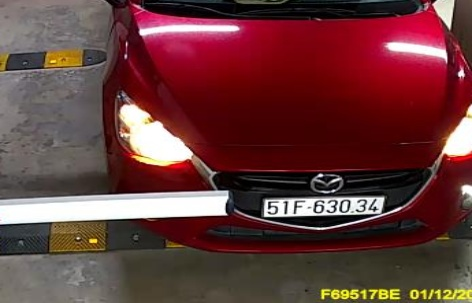plate: (260, 196, 388, 221)
